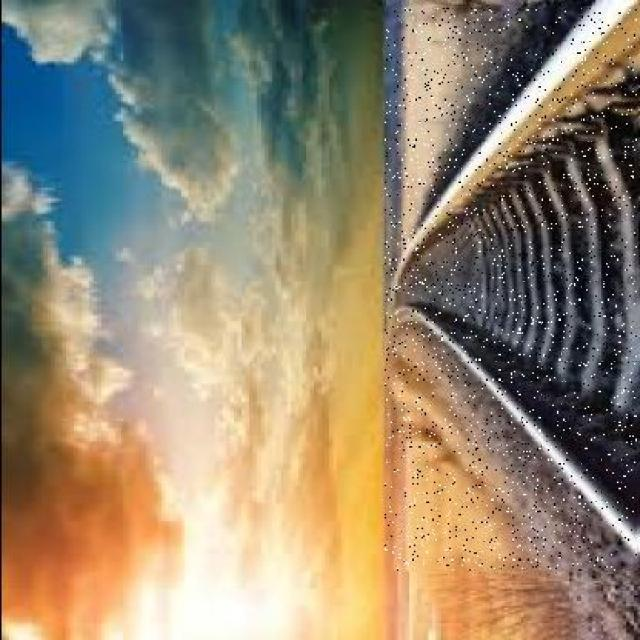rail: (385, 9, 636, 571)
